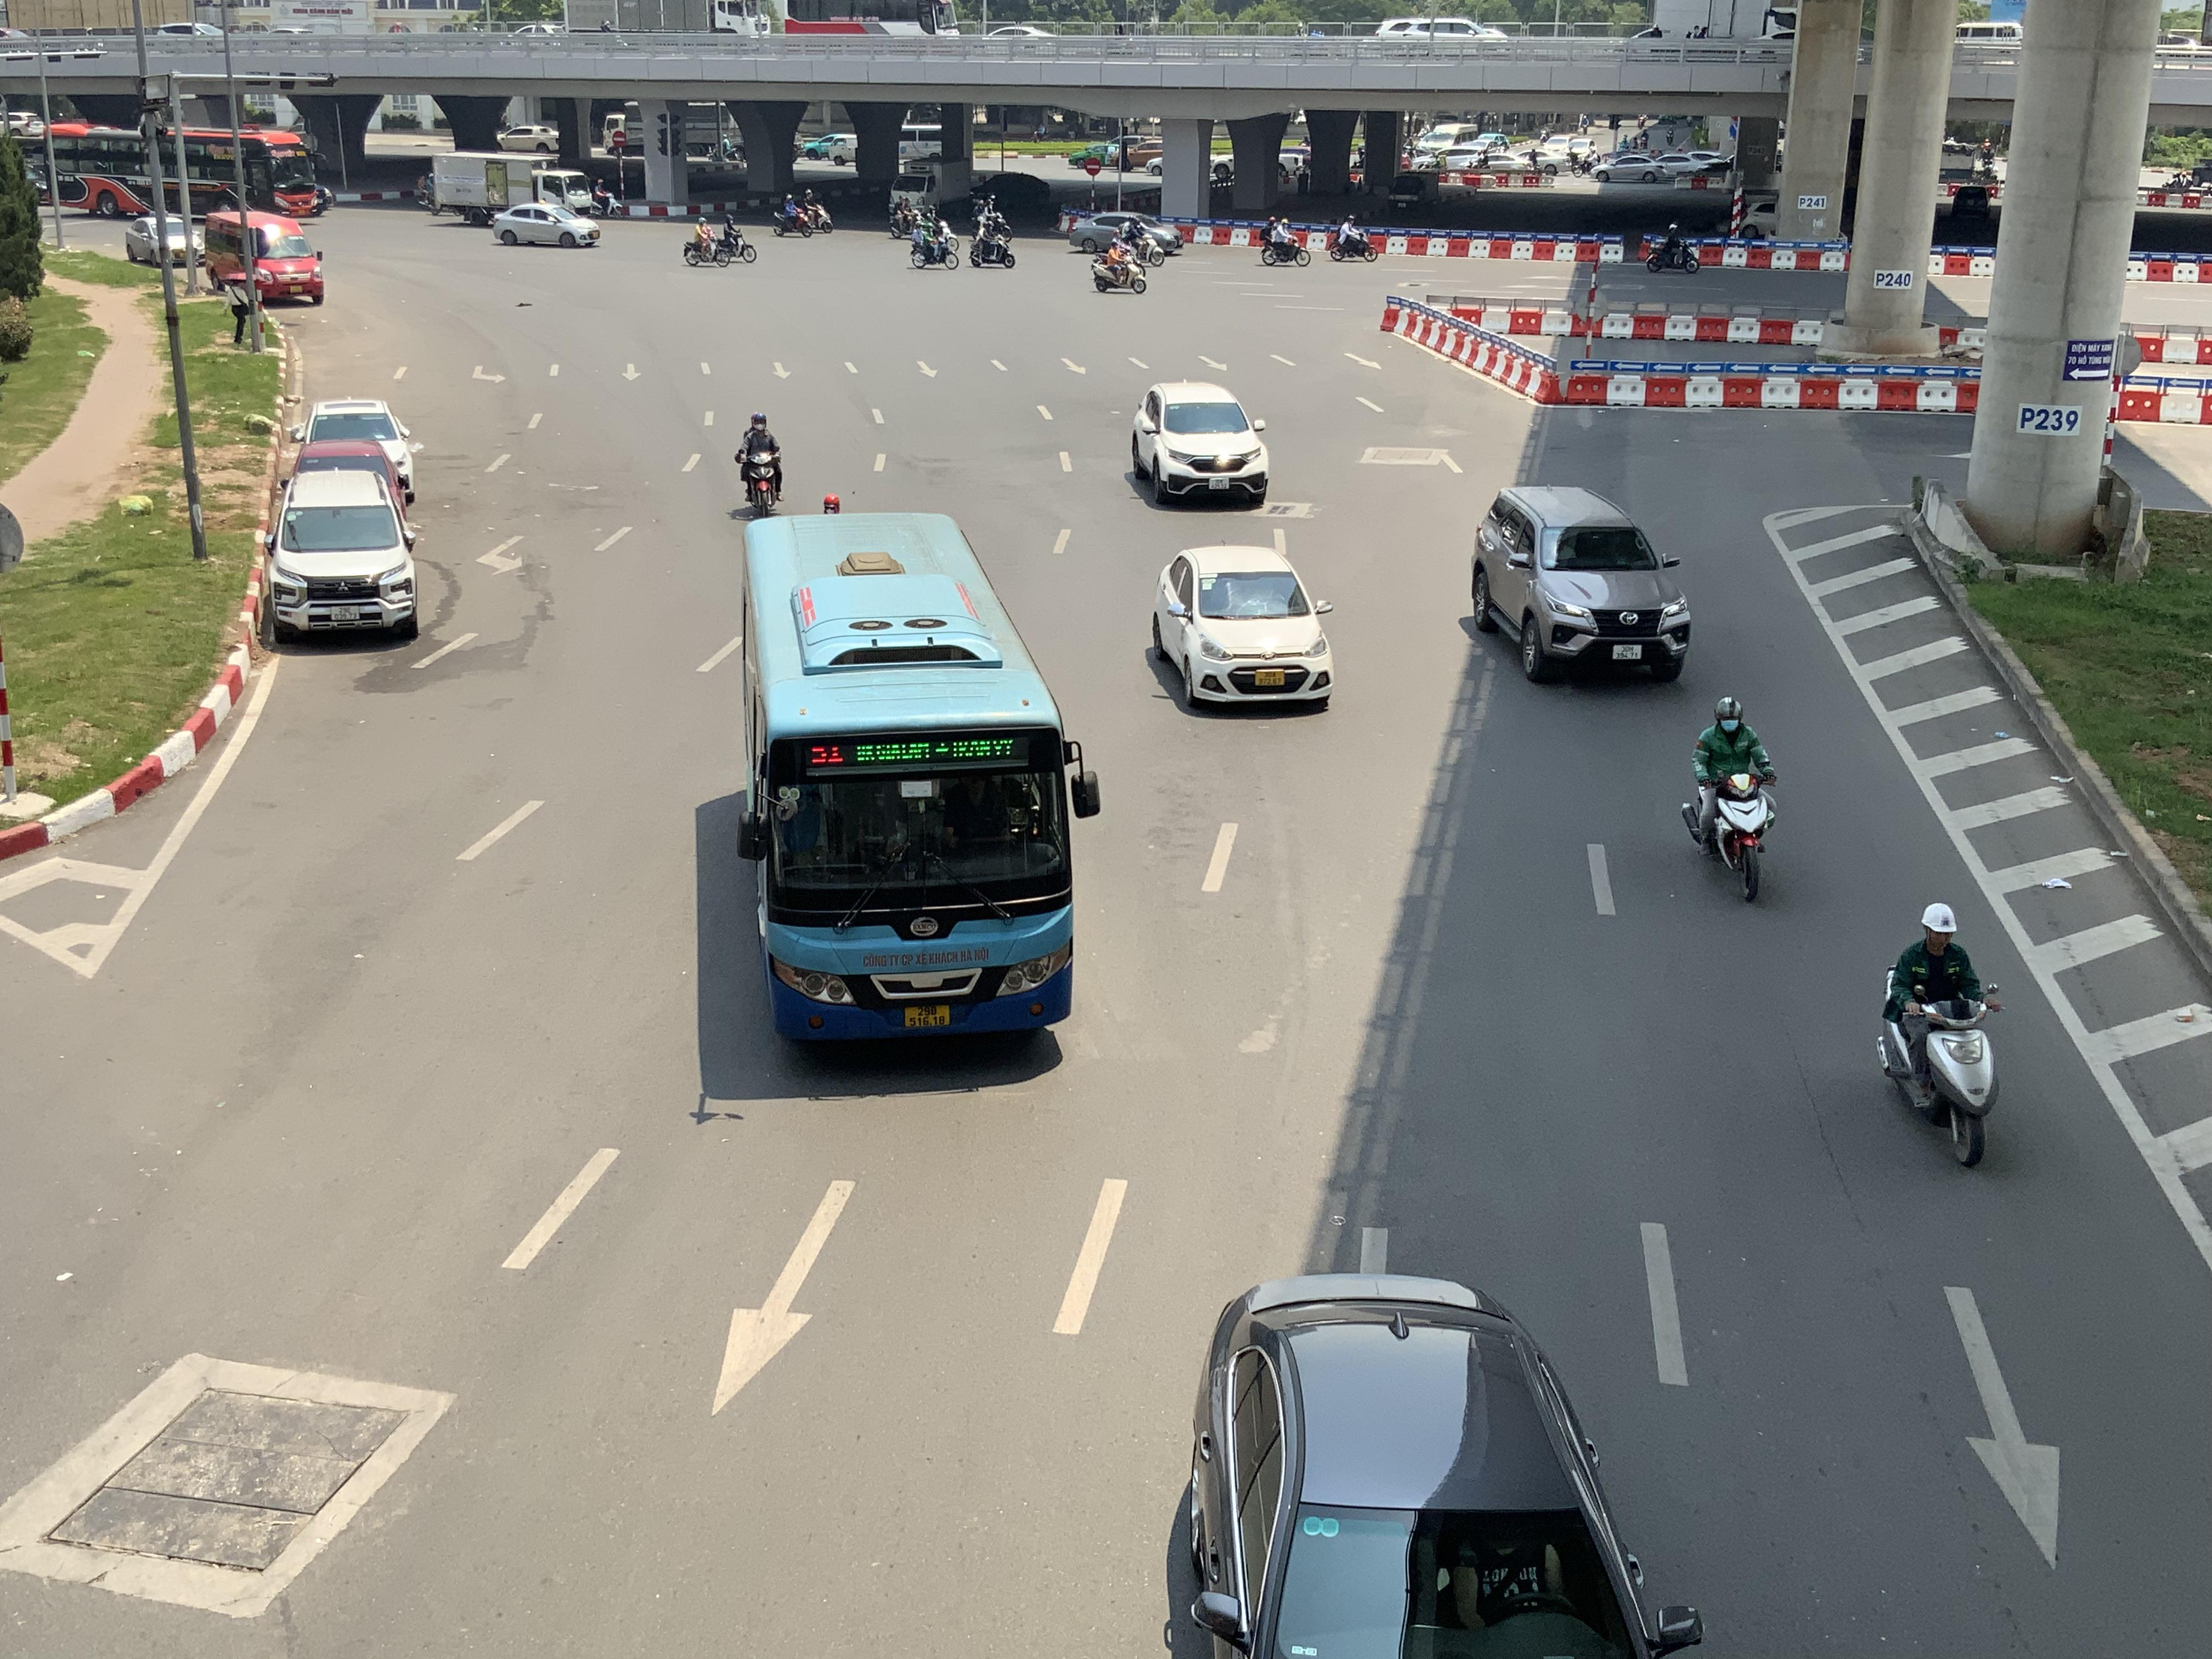BSV: (904, 1004, 951, 1026), (1254, 671, 1284, 687), (1613, 645, 1642, 660), (331, 605, 361, 620), (1209, 477, 1230, 490)
bus: (735, 509, 1101, 1049), (40, 120, 319, 216)
car: (1158, 1270, 1703, 1659), (1468, 483, 1691, 685), (1146, 544, 1334, 711), (258, 465, 420, 643), (1129, 382, 1270, 507), (298, 401, 416, 507), (200, 213, 324, 307), (293, 443, 411, 519), (1068, 209, 1177, 258), (491, 202, 601, 247), (125, 213, 197, 267), (1590, 155, 1667, 183), (1517, 150, 1571, 176)
motorbike: (1879, 901, 2001, 1169), (1684, 695, 1777, 904), (733, 411, 784, 519), (1092, 230, 1148, 295), (1641, 218, 1702, 270), (1258, 211, 1310, 265), (1325, 209, 1376, 261), (683, 216, 732, 268), (907, 221, 960, 270), (970, 220, 1015, 268), (716, 213, 756, 263), (772, 192, 815, 237), (968, 199, 1012, 240), (798, 188, 836, 234), (921, 204, 960, 249), (888, 193, 925, 240), (590, 179, 627, 220)
truck: (430, 150, 592, 220), (888, 157, 970, 216)
